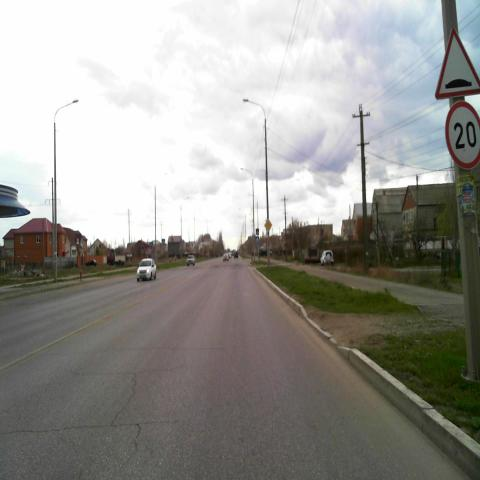1_17: (436, 25, 480, 100)
